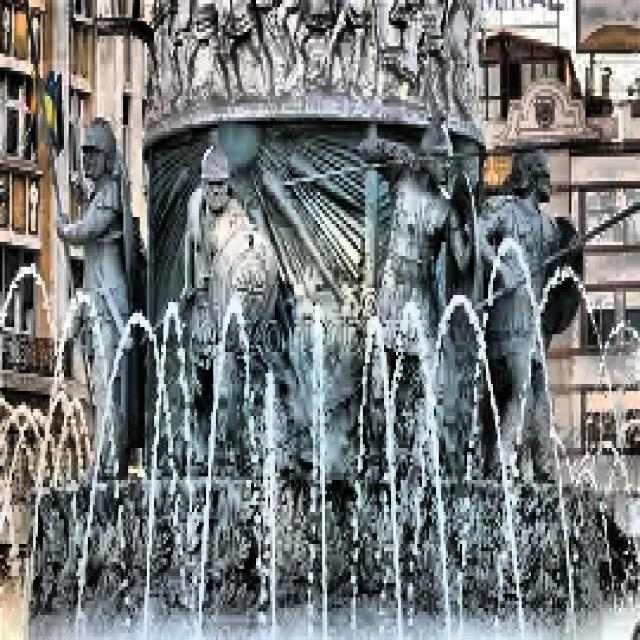alexander the great monument: (0, 0, 639, 624)
